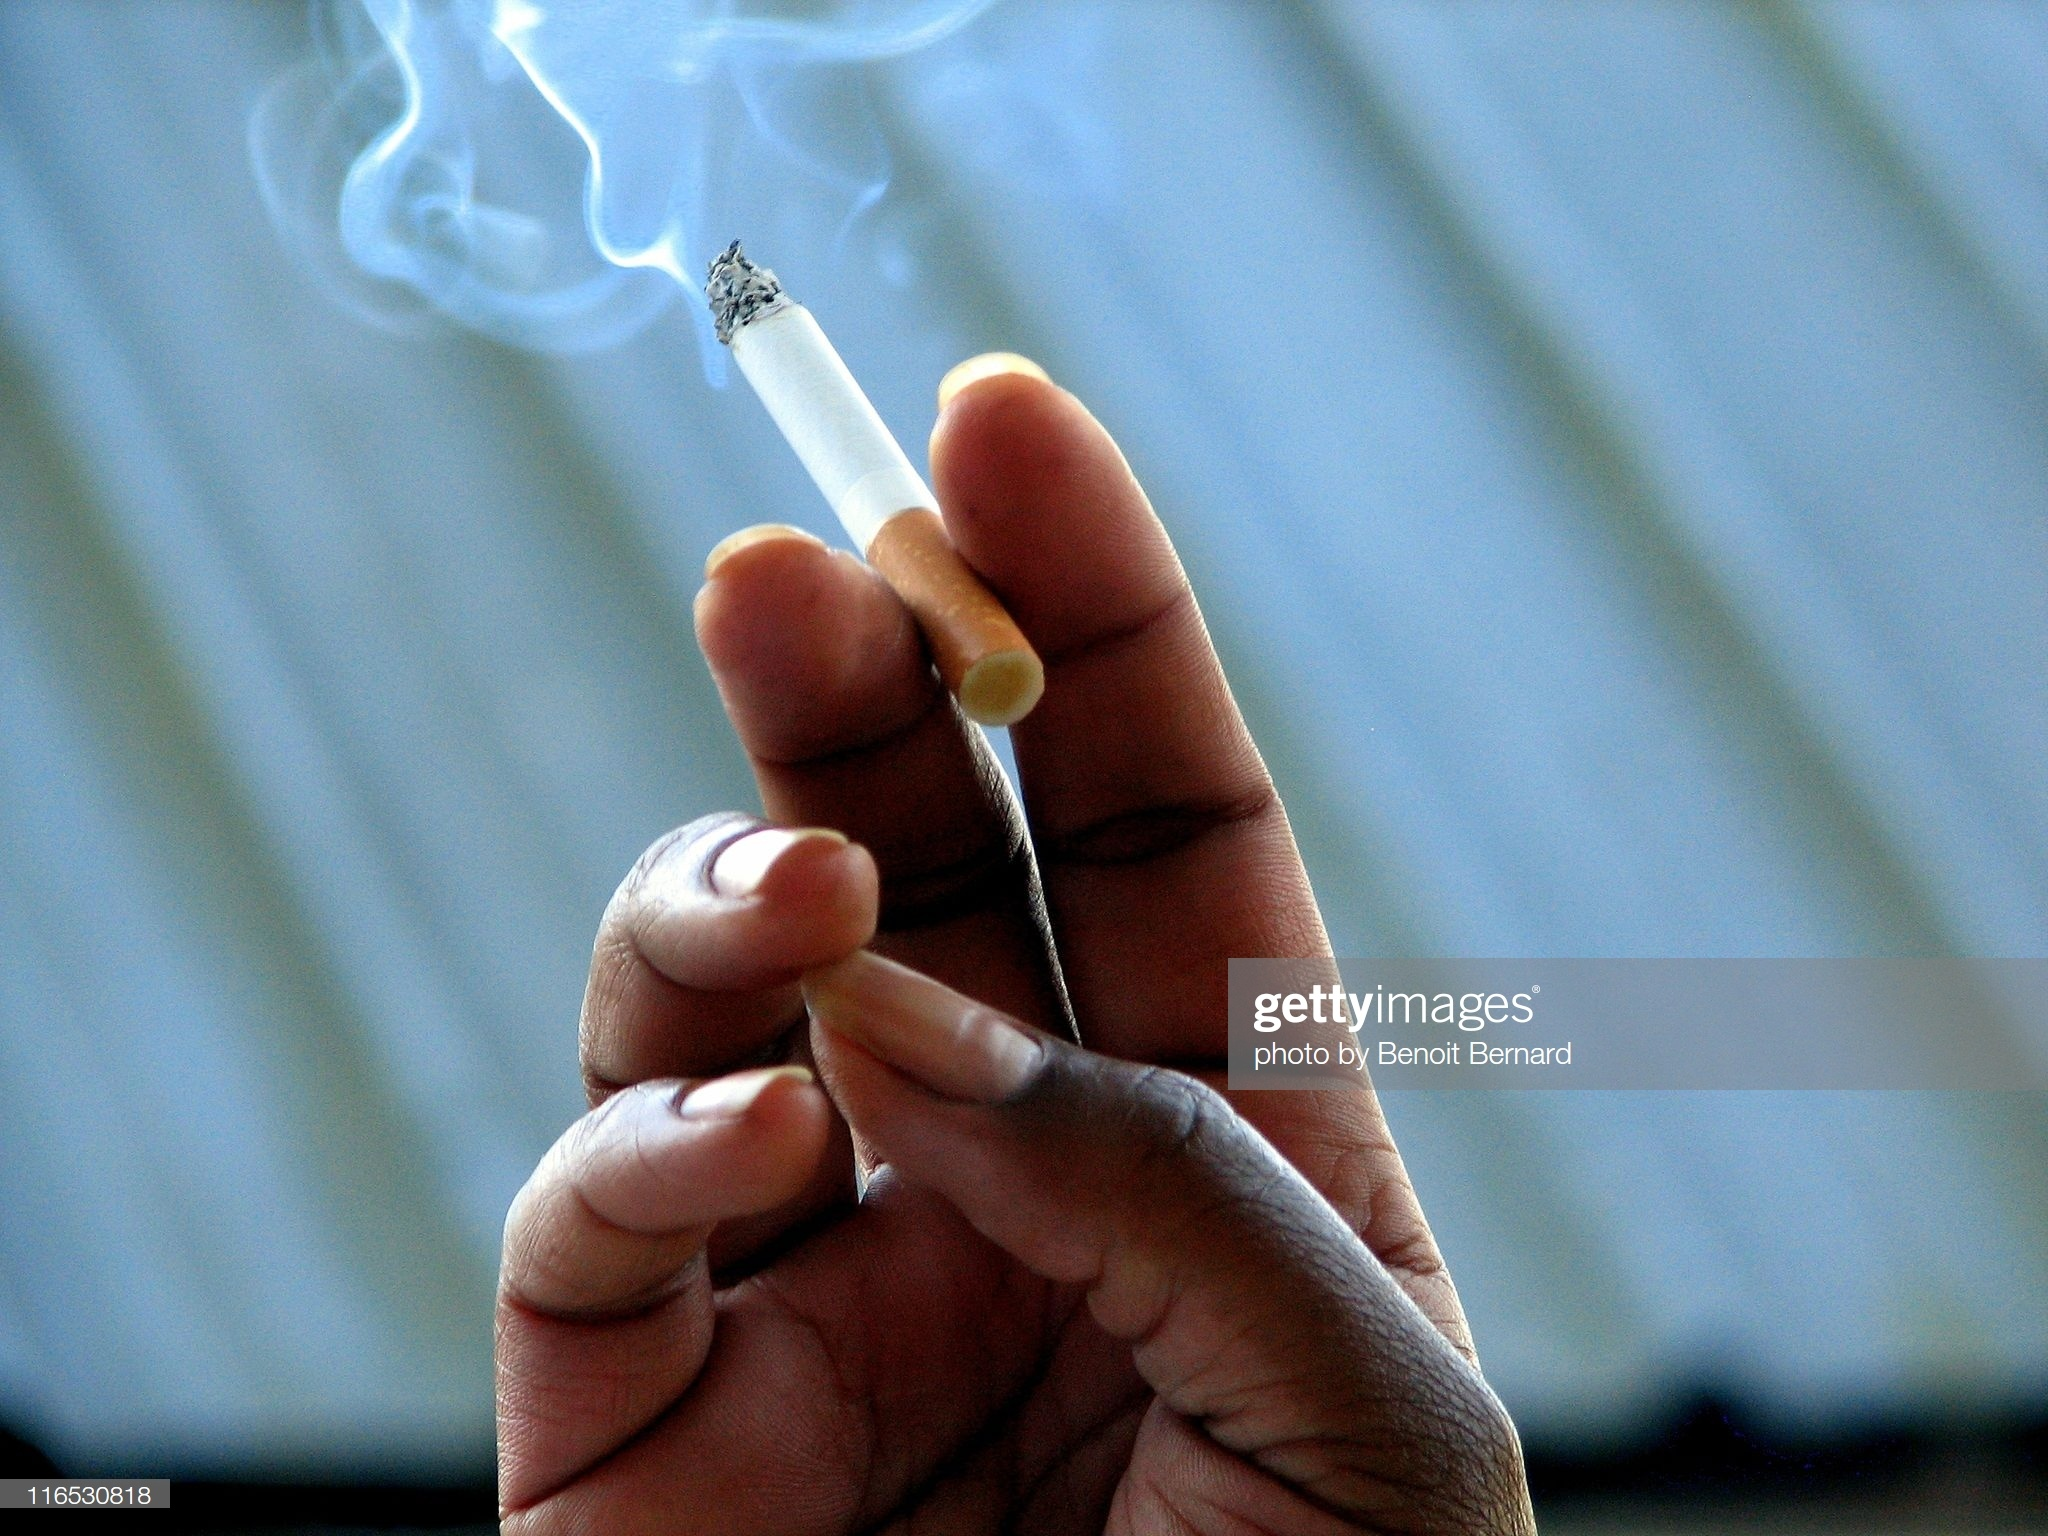sigaretta: (701, 229, 1042, 710)
